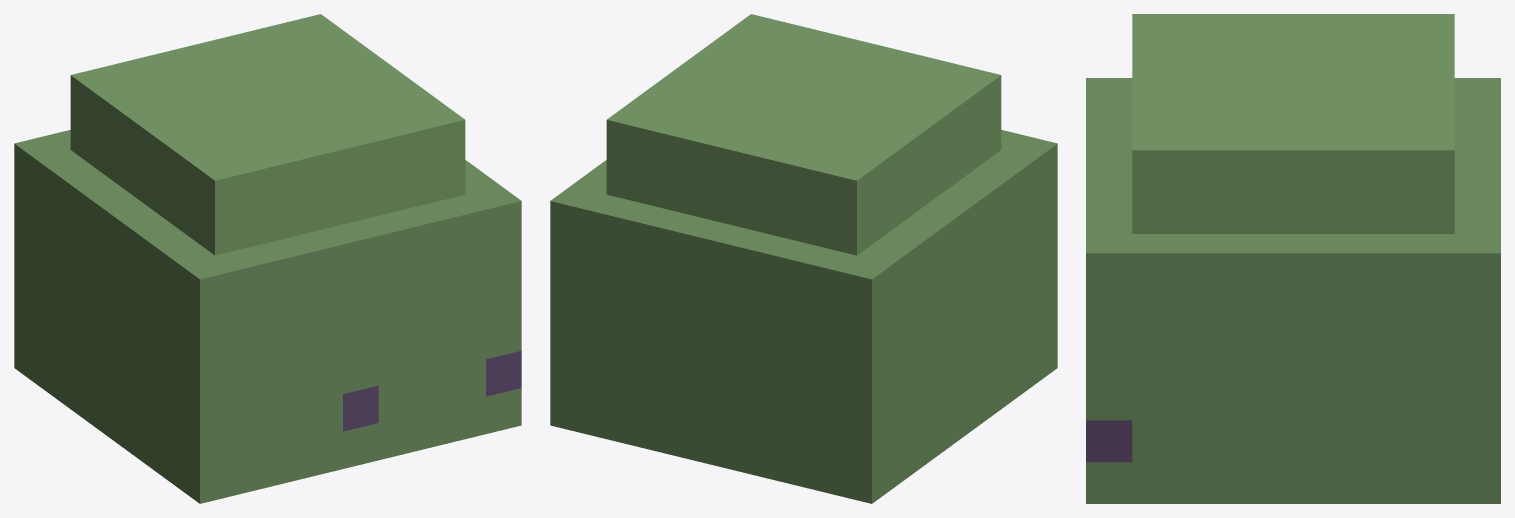
File: sauco_03.glb
3 views of the same model, side by side, from view 1: azimuth 30°, elevation 25°; view 2: azimuth 150°, elevation 25°; view 3: azimuth 270°, elevation 25° (orthographic). The views are drawn at different scales.
Visible parts, largest first — view 1: sauco_03; view 2: sauco_03; view 3: sauco_03.
Boxes of the visible parts, left/top/right/bottom form: sauco_03: left=14, top=14, right=521, bottom=503; sauco_03: left=550, top=14, right=1057, bottom=503; sauco_03: left=1086, top=14, right=1500, bottom=503.
Size of the model in its own units: 0.9 by 0.8 by 0.9.
